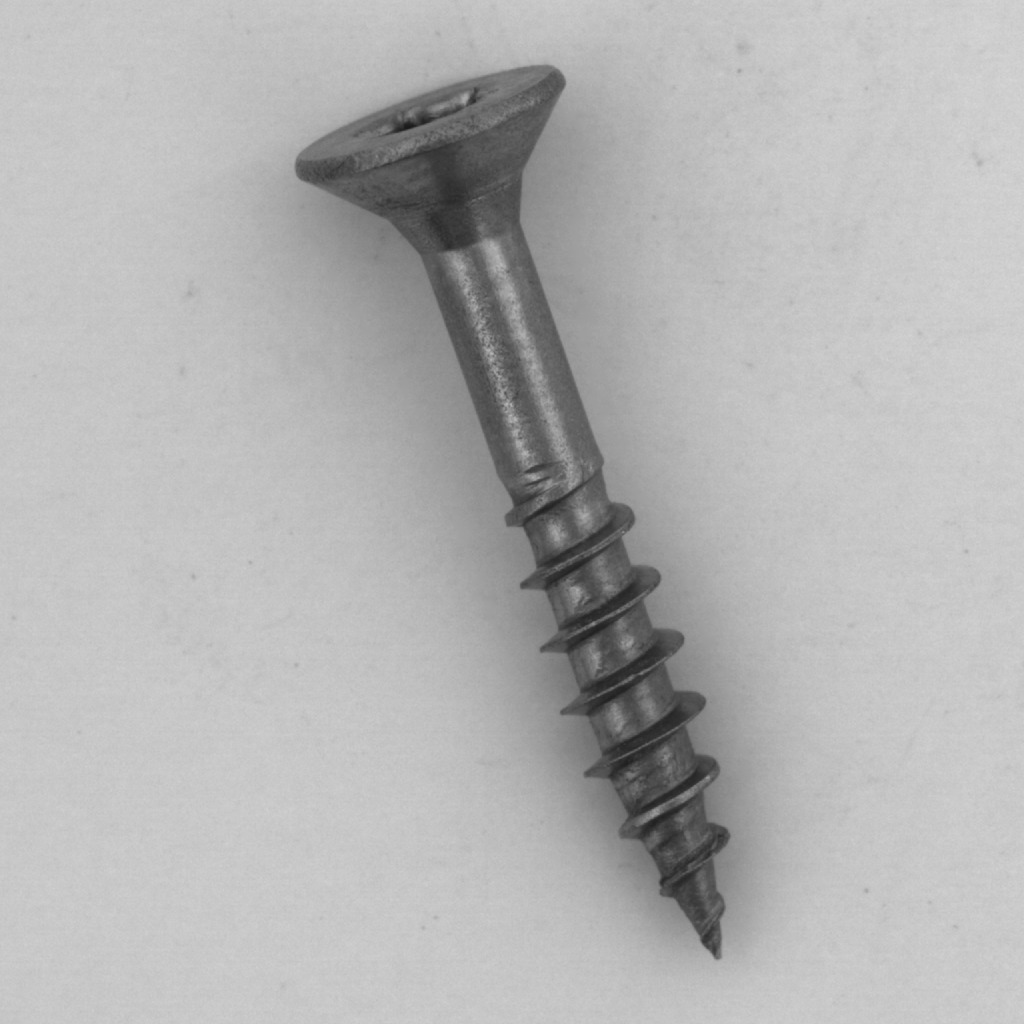good: (273, 47, 756, 986)
